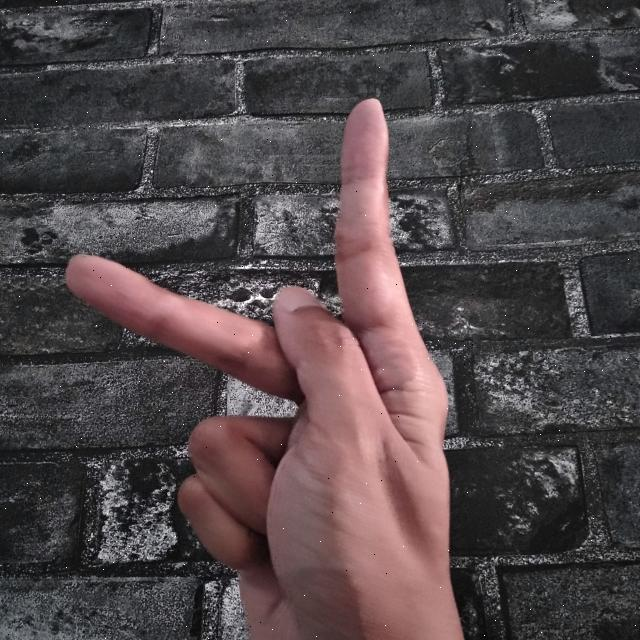K: (58, 91, 466, 640)
